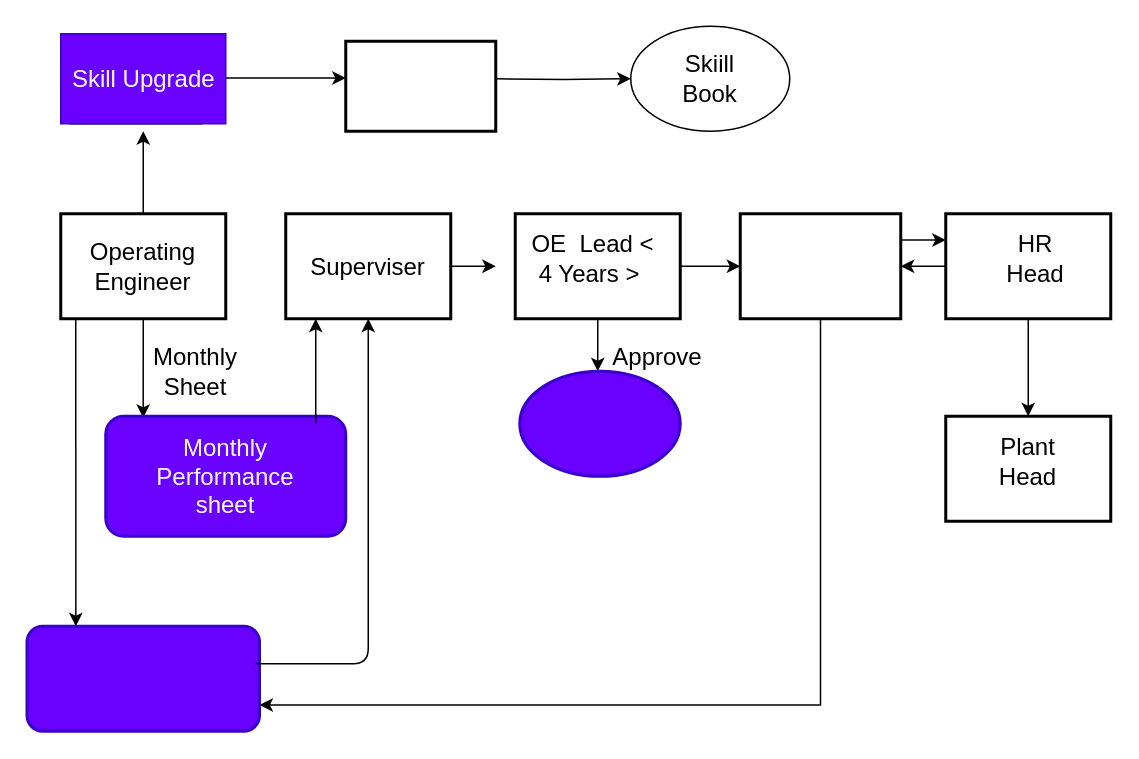
This 1139x759 diagram has some shape labels left out. Here are the shapes that lost their labels. From the top down, the box of each, then its label:
(344, 39, 496, 132): PPT
(738, 212, 902, 320): Production Manager
(518, 369, 681, 477): Final Sub.
(25, 624, 260, 732): Appraisal Form
